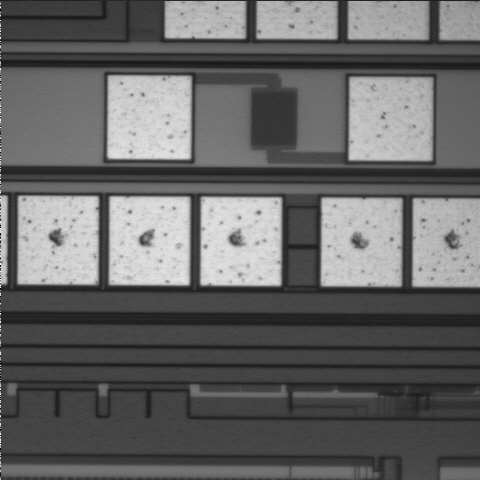pad: (109, 197, 190, 285), (18, 196, 98, 284), (201, 197, 281, 285), (321, 198, 401, 286), (108, 76, 191, 159), (349, 78, 431, 160)
